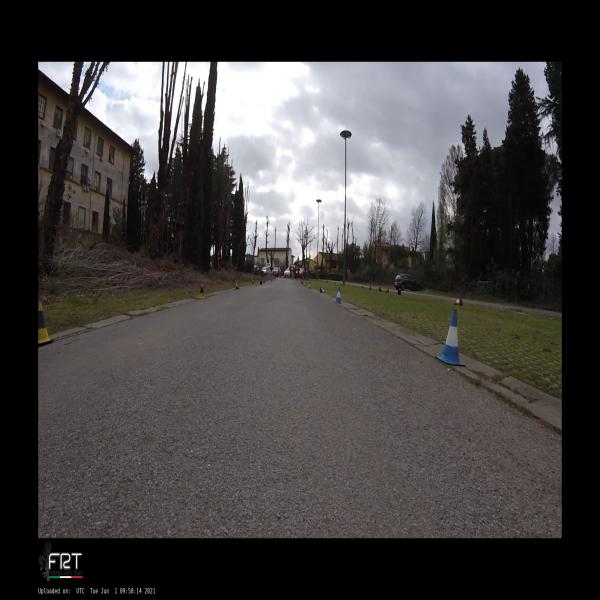blue_cone: (435, 309, 466, 366), (333, 287, 342, 304), (320, 286, 325, 294), (308, 282, 311, 289), (304, 282, 305, 286)
orange_cone: (454, 296, 462, 306)
unknown_cone: (397, 290, 402, 296), (384, 288, 390, 293), (378, 287, 382, 292), (369, 285, 371, 290), (260, 281, 262, 285)
yellow_cone: (39, 300, 56, 344), (198, 283, 206, 299), (234, 282, 239, 290), (252, 280, 255, 286)
